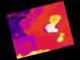Foc: (36, 11, 70, 45), (15, 44, 50, 58)
